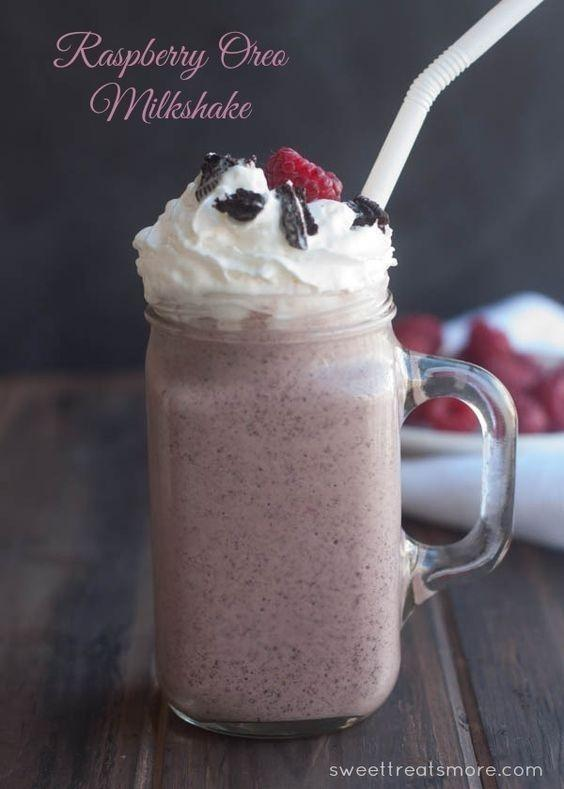glass-mug: (132, 178, 522, 743)
